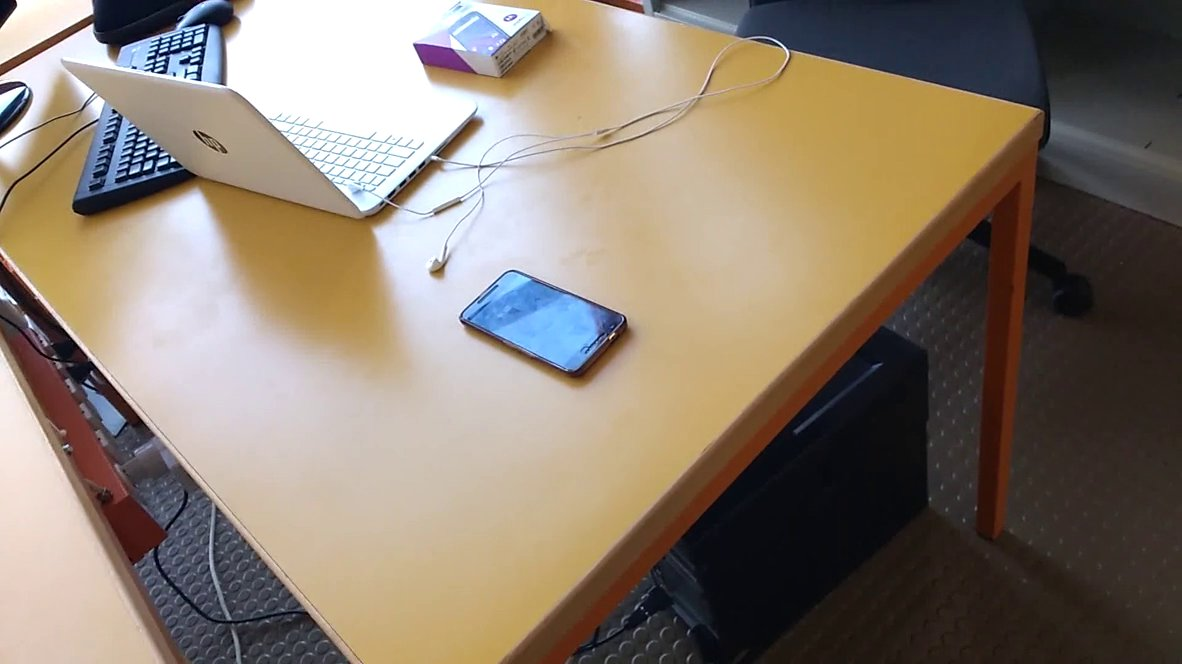laptop: (55, 49, 497, 230)
phone: (452, 260, 643, 389)
